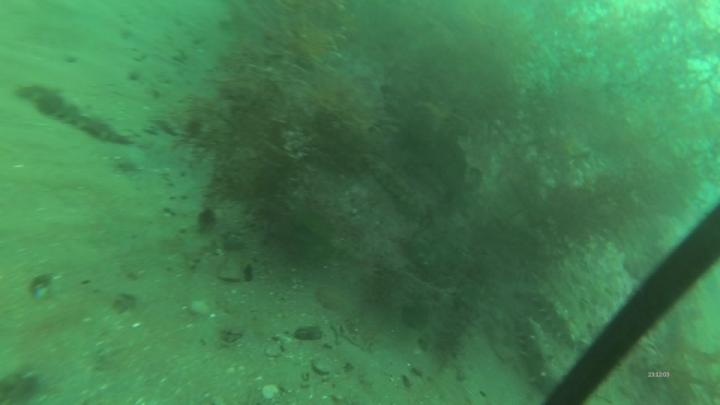holothurian: (371, 157, 436, 220), (519, 315, 569, 394)
waterweeds: (363, 1, 720, 230)
